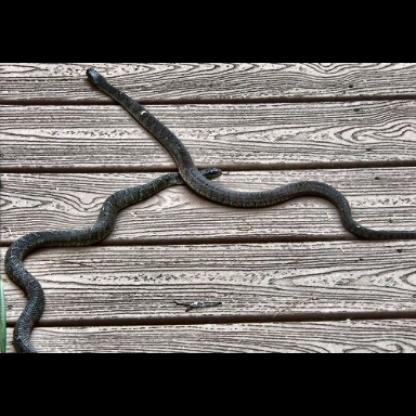Snake: (11, 77, 410, 237)
